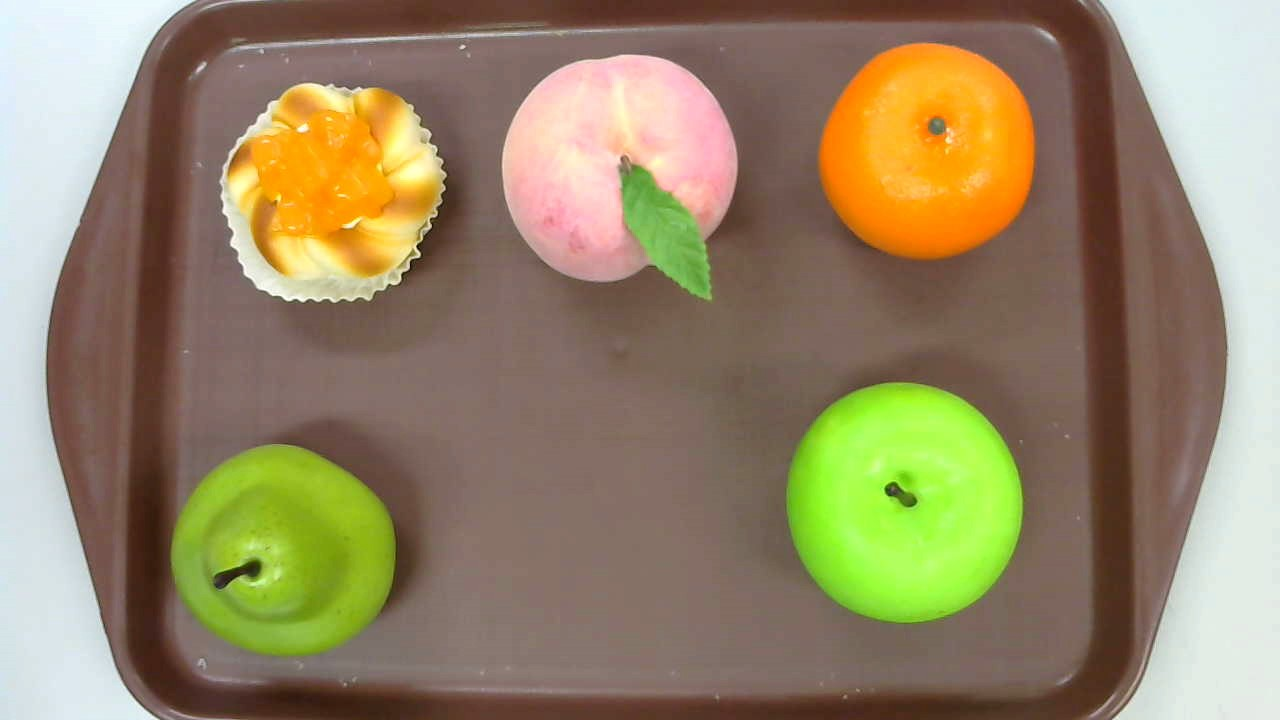green apple: (785, 381, 1023, 622)
green pear: (170, 444, 397, 654)
mango tart: (218, 81, 447, 305)
orange: (817, 42, 1035, 262)
peach: (501, 55, 741, 301)
